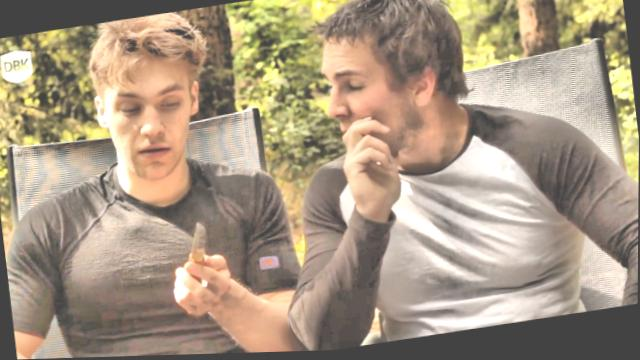knife: (156, 204, 237, 309)
